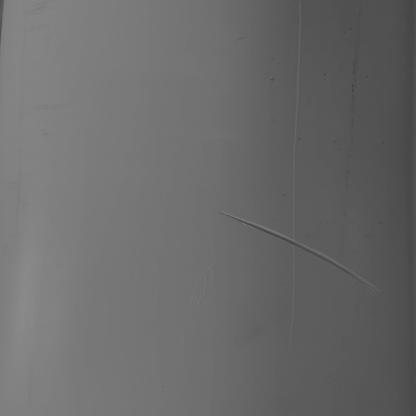sunshang: (224, 210, 376, 288)
